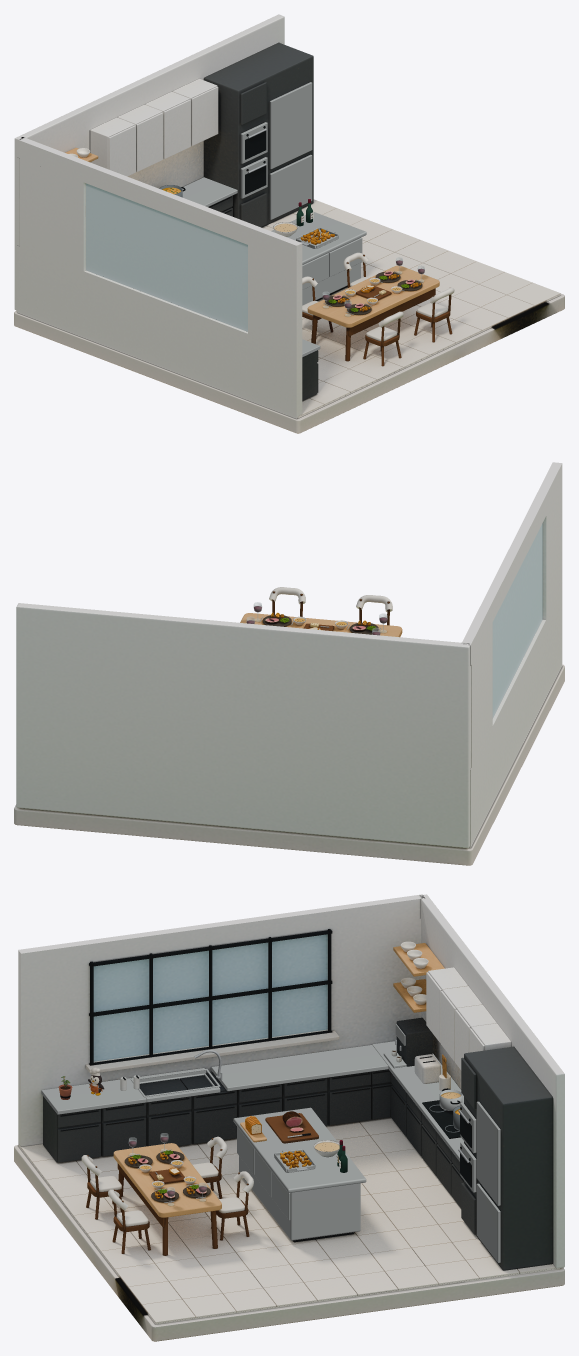
File: social-kitchen.glb
The picture shows the model from 3 angles, top to bottom: view 1: azimuth 30°, elevation 25°; view 2: azimuth 150°, elevation 25°; view 3: azimuth 270°, elevation 25°; orthographic projection. The views are drawn at different scales.
Parts seen in each view (by area): view 1: Baked social-kitchen architecture, Baked social-kitchen details, Live glass and reflective metal; view 2: Baked social-kitchen architecture, Baked social-kitchen details; view 3: Baked social-kitchen architecture, Baked social-kitchen details, Live glass and reflective metal.
Boxes of the visible parts, <box> form: Baked social-kitchen architecture: <box>14,14,564,433</box>; Baked social-kitchen details: <box>68,82,560,417</box>; Live glass and reflective metal: <box>159,82,424,357</box>; Baked social-kitchen architecture: <box>14,462,564,865</box>; Baked social-kitchen details: <box>246,587,392,635</box>; Baked social-kitchen architecture: <box>14,894,564,1341</box>; Baked social-kitchen details: <box>19,941,555,1323</box>; Live glass and reflective metal: <box>41,1024,500,1262</box>.
Bounding box in the file's own units: 18.65 × 7.72 × 18.27.
Materials: 7 (2 with a texture image).
